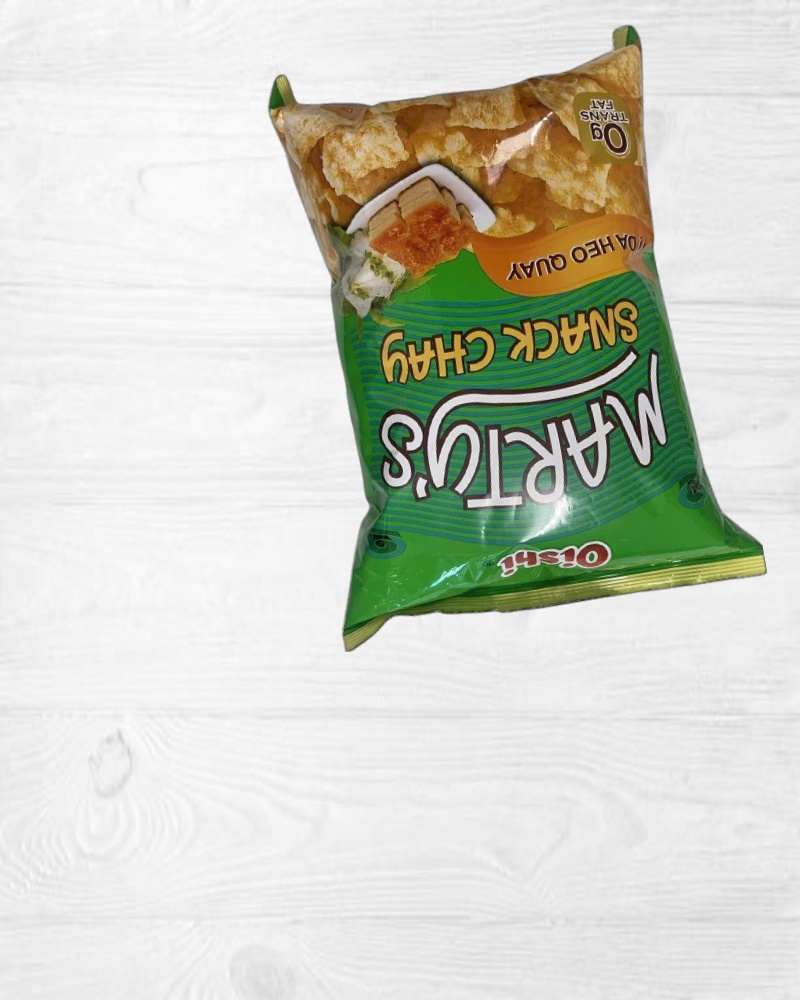Snack chay: (266, 9, 767, 649)
